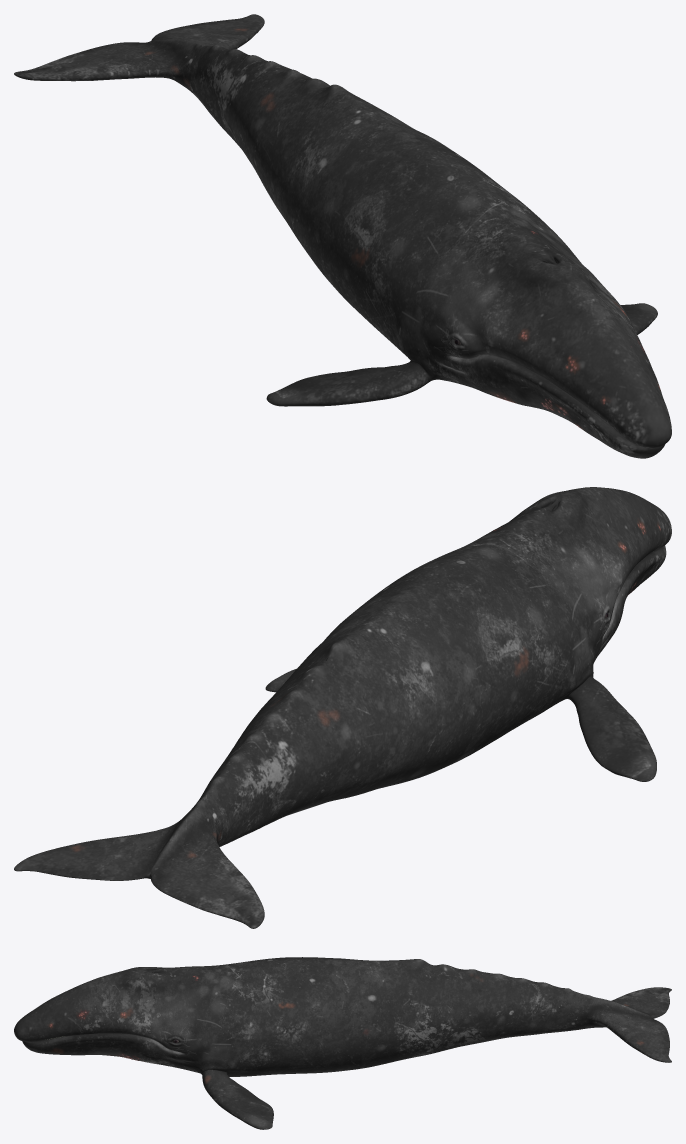
Rendered from model-gray-whale-digitallife.glb.
The picture shows the model from 3 angles, top to bottom: view 1: azimuth 30°, elevation 25°; view 2: azimuth 150°, elevation 25°; view 3: azimuth 270°, elevation 25°; orthographic projection. The views are drawn at different scales.
Visible parts, largest first — view 1: gray-whale_body; view 2: gray-whale_body; view 3: gray-whale_body.
Boxes of the visible parts, x1,y1,x2,y2 form: gray-whale_body: (14, 14, 671, 458); gray-whale_body: (14, 487, 671, 928); gray-whale_body: (14, 957, 671, 1129).
Bounding box in the file's own units: 5.69 × 2.56 × 13.52.
Materials: 1 (1 with a texture image).
